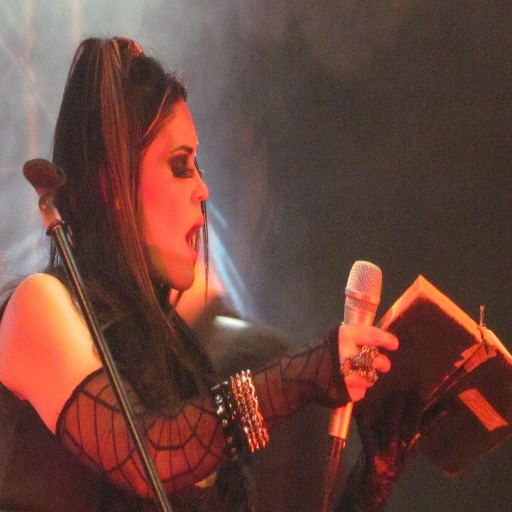hand: (339, 386, 454, 511), (338, 317, 393, 398)
